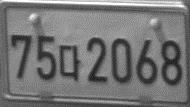0: (110, 38, 133, 83)
2: (85, 36, 108, 84)
5: (35, 34, 56, 80)
6: (135, 39, 157, 84)
7: (9, 33, 33, 80)
8: (158, 39, 183, 85)
다: (57, 44, 81, 83)
